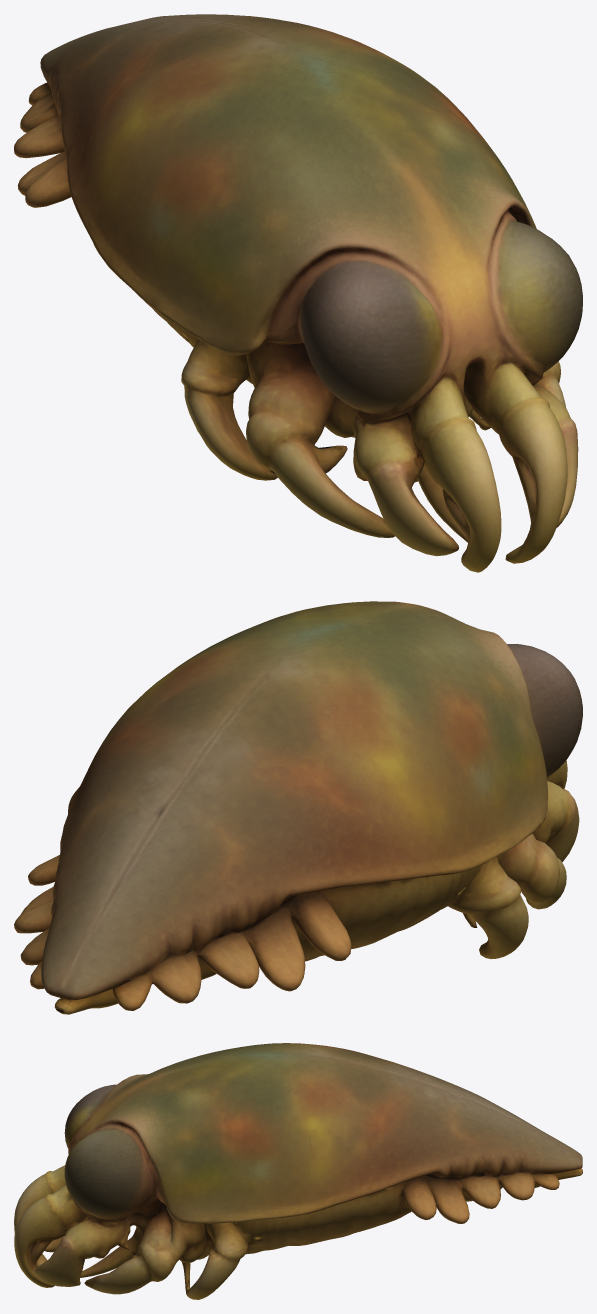
The picture shows the model from 3 angles, top to bottom: view 1: azimuth 30°, elevation 25°; view 2: azimuth 150°, elevation 25°; view 3: azimuth 270°, elevation 25°; orthographic projection. The views are drawn at different scales.
Parts seen in each view (by area): view 1: world; view 2: world; view 3: world.
Boxes of the visible parts, x1=… form: world: x1=14, y1=14, x2=582, y2=572; world: x1=14, y1=601, x2=582, y2=1014; world: x1=14, y1=1043, x2=582, y2=1299.
Size of the model in its own units: 0.0604 by 0.0584 by 0.1323.
1 material, 1 textured.
